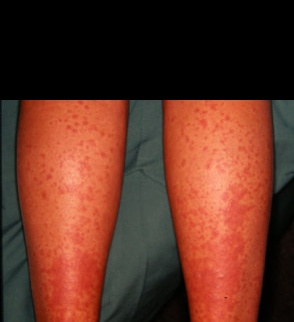SJS-TEN: (11, 99, 132, 322), (161, 99, 280, 322)
